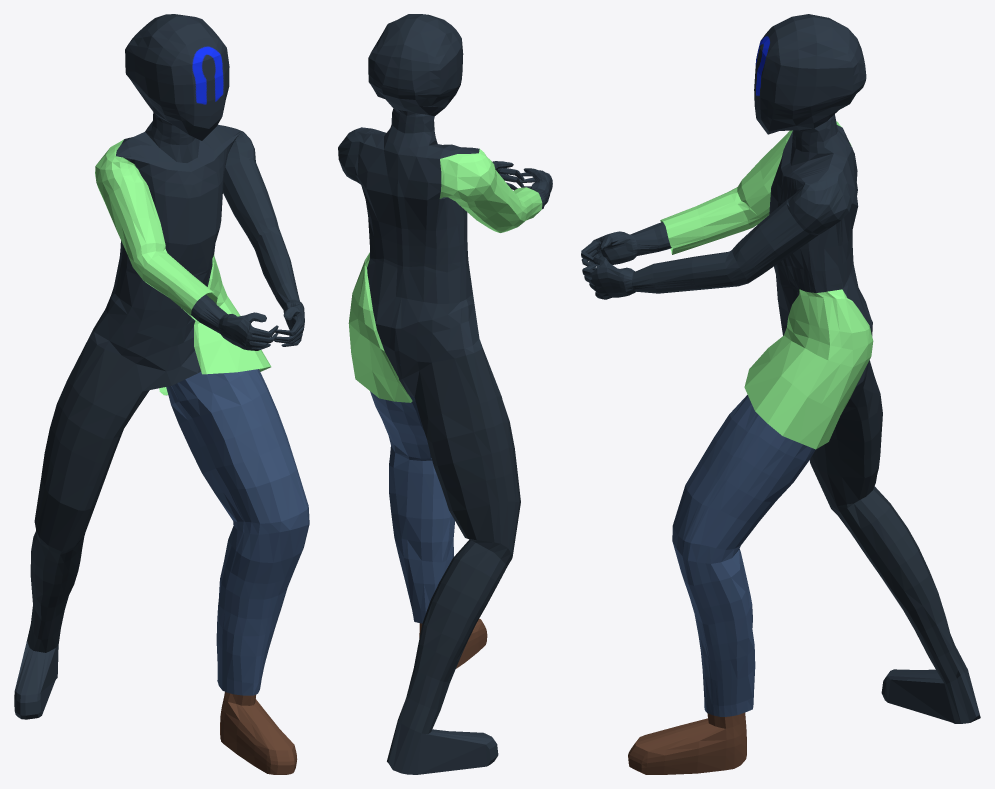
File: Mar_Die_000003.obj
3 views of the same model, side by side, from view 1: azimuth 30°, elevation 25°; view 2: azimuth 150°, elevation 25°; view 3: azimuth 270°, elevation 25° (orthographic). The views are drawn at different scales.
Visible parts, largest first — view 1: Cube.000_Cube.001; view 2: Cube.000_Cube.001; view 3: Cube.000_Cube.001.
Boxes of the visible parts, x1,y1,x2,y2 form: Cube.000_Cube.001: [14, 14, 309, 774]; Cube.000_Cube.001: [338, 14, 552, 774]; Cube.000_Cube.001: [581, 14, 980, 774].
Bounding box in the file's own units: 1.11 × 3.74 × 1.83.
